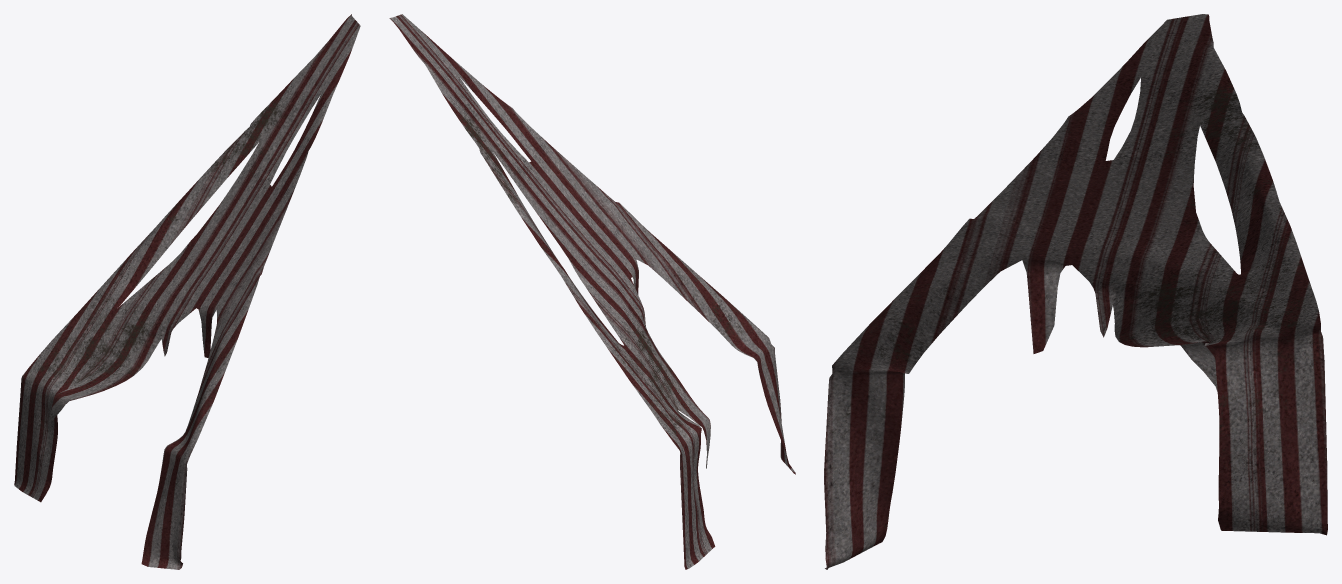
The model's file is Tent_P_Rag07.FBX.
The picture shows the model from 3 angles, left to right: view 1: azimuth 30°, elevation 25°; view 2: azimuth 150°, elevation 25°; view 3: azimuth 270°, elevation 25°; orthographic projection. The views are drawn at different scales.
Parts seen in each view (by area): view 1: Tent_P_Rag07; view 2: Tent_P_Rag07; view 3: Tent_P_Rag07.
Part boxes in pixels (box(x1,y1,x2,y2)): Tent_P_Rag07: box(14, 14, 360, 569); Tent_P_Rag07: box(389, 14, 795, 569); Tent_P_Rag07: box(824, 14, 1327, 569).
Size of the model in its own units: 1336 by 1725 by 969.
